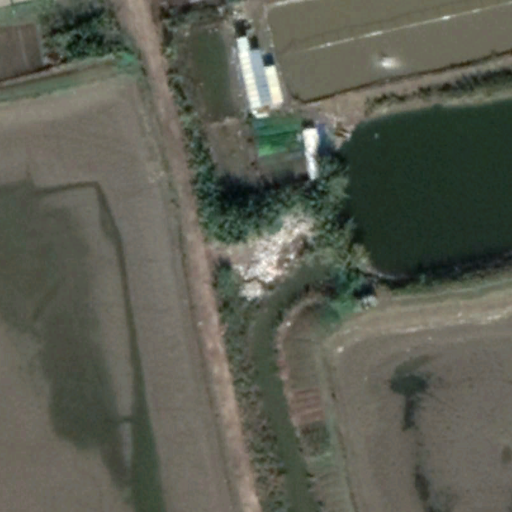msw: (241, 219, 314, 298)
